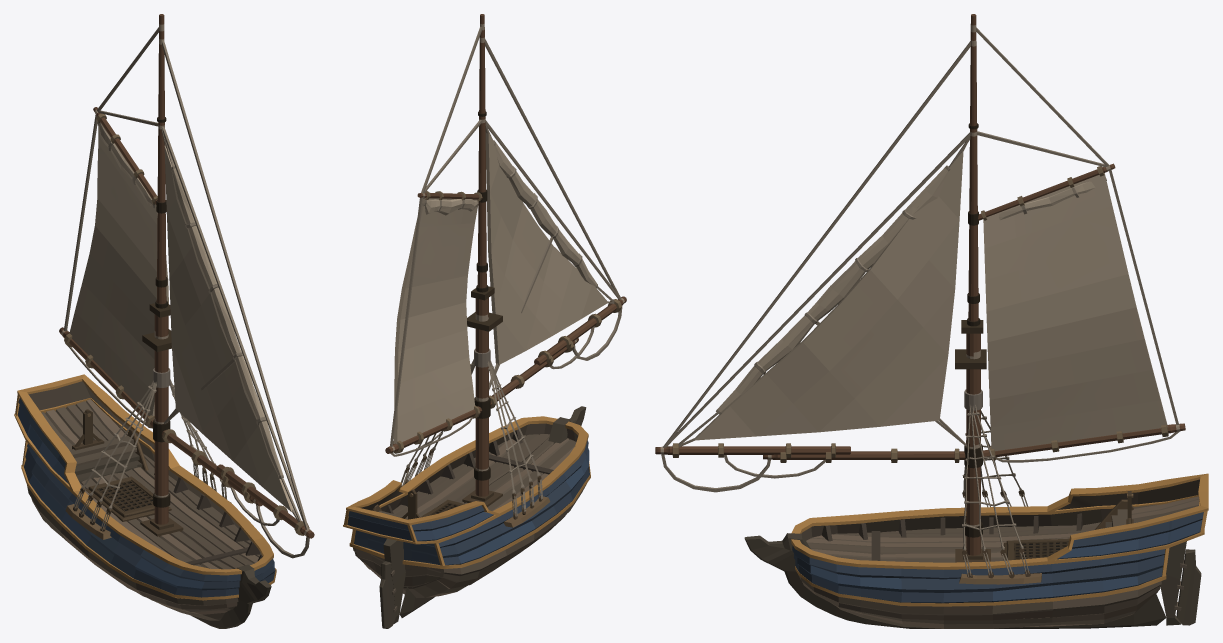
File: SM_Veh_Boat_Medium_01_Hull.glb
3 views of the same model, side by side, from view 1: azimuth 30°, elevation 25°; view 2: azimuth 150°, elevation 25°; view 3: azimuth 270°, elevation 25° (orthographic). The views are drawn at different scales.
Parts seen in each view (by area): view 1: SM_Veh_Boat_Medium_01_Sails_Up; view 2: SM_Veh_Boat_Medium_01_Sails_Up; view 3: SM_Veh_Boat_Medium_01_Sails_Up.
Boxes of the visible parts, bbox=[...] form: SM_Veh_Boat_Medium_01_Sails_Up: bbox=[14, 14, 314, 628]; SM_Veh_Boat_Medium_01_Sails_Up: bbox=[343, 14, 626, 628]; SM_Veh_Boat_Medium_01_Sails_Up: bbox=[655, 14, 1208, 628].
Bounding box in the file's own units: 0.0507 × 0.2084 × 0.1704.
